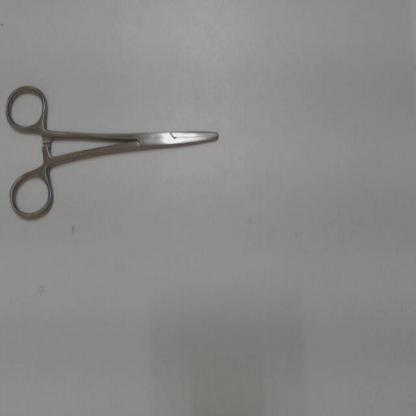Mayo Needle Holder: (2, 75, 225, 228)
